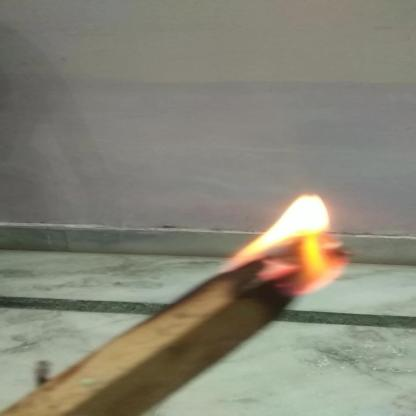fire: (243, 188, 347, 289)
